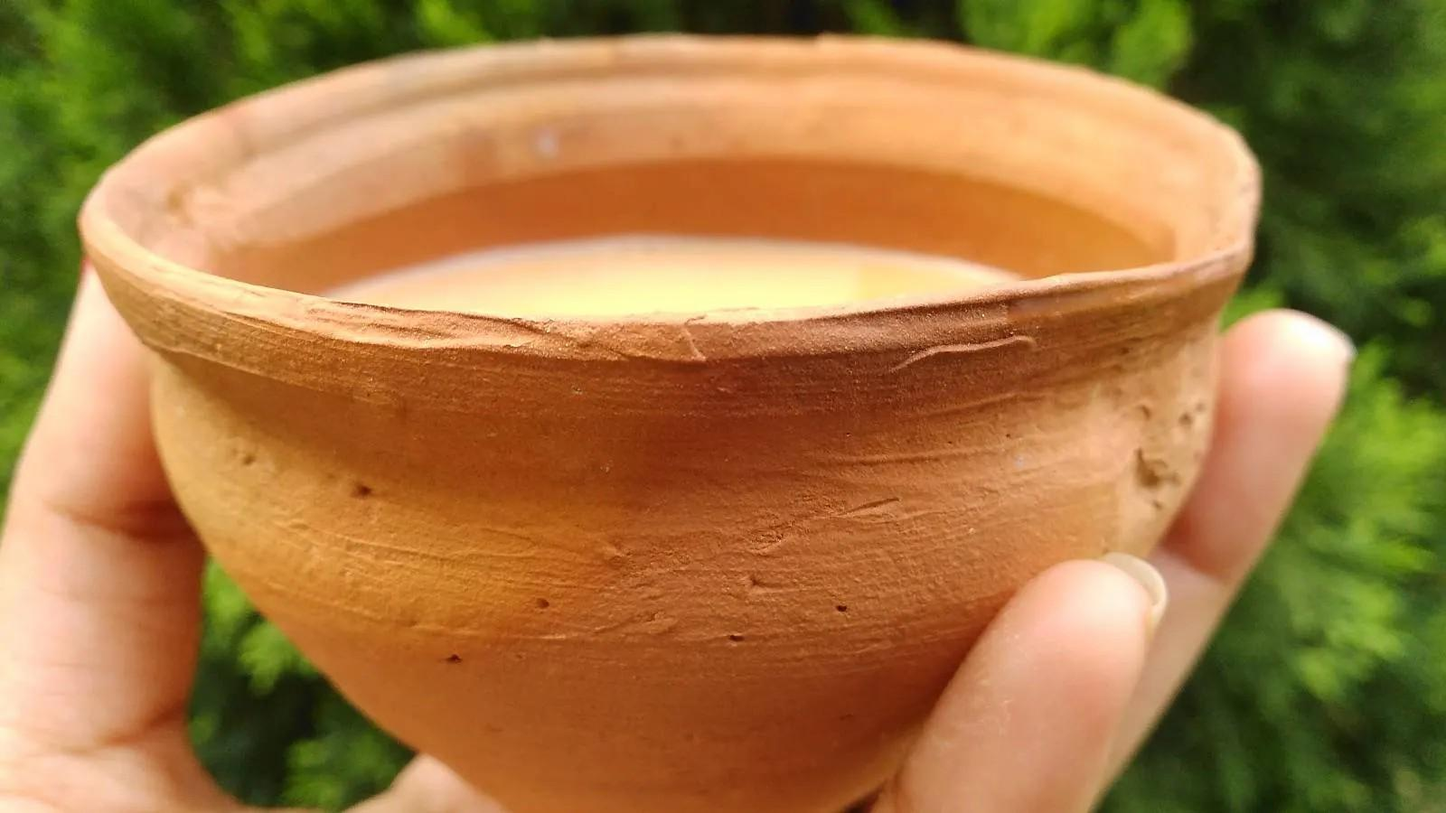Chai: (218, 152, 1166, 320)
